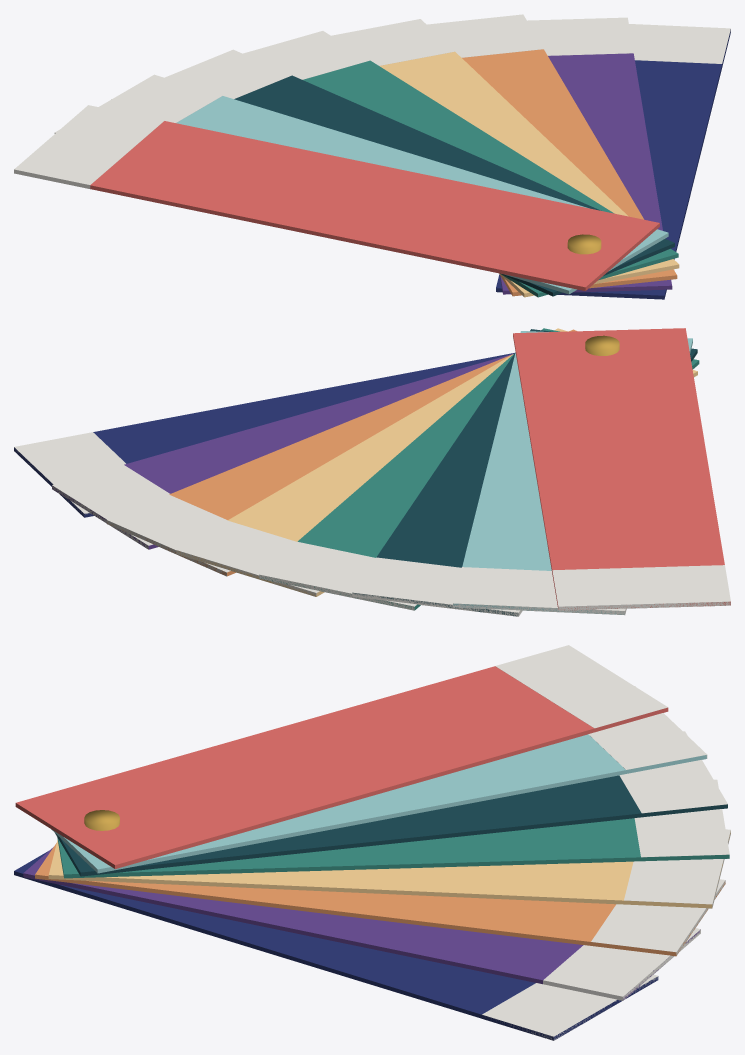
The model's file is herodesk-art-swatches.glb.
3 views of the same model, one above another, from view 1: azimuth 30°, elevation 25°; view 2: azimuth 150°, elevation 25°; view 3: azimuth 270°, elevation 25° (orthographic). The views are drawn at different scales.
Visible parts, largest first — view 1: herodesk-art-swatches · mesh; view 2: herodesk-art-swatches · mesh; view 3: herodesk-art-swatches · mesh.
Part boxes in pixels (<box>): herodesk-art-swatches · mesh: <box>14,14,730,299</box>; herodesk-art-swatches · mesh: <box>14,328,730,616</box>; herodesk-art-swatches · mesh: <box>14,645,730,1040</box>.
Size of the model in its own units: 0.1933 by 0.00999 by 0.1612.
